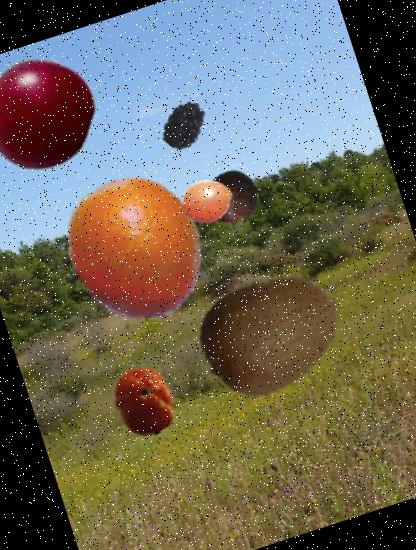Cherry: (0, 43, 109, 185)
Chestnut: (193, 160, 265, 232)
Kiwi: (180, 241, 364, 426)
Mulberry: (153, 93, 217, 157)
Tangelo: (41, 158, 227, 344), (177, 169, 240, 232)
Tomato: (100, 356, 188, 445)
